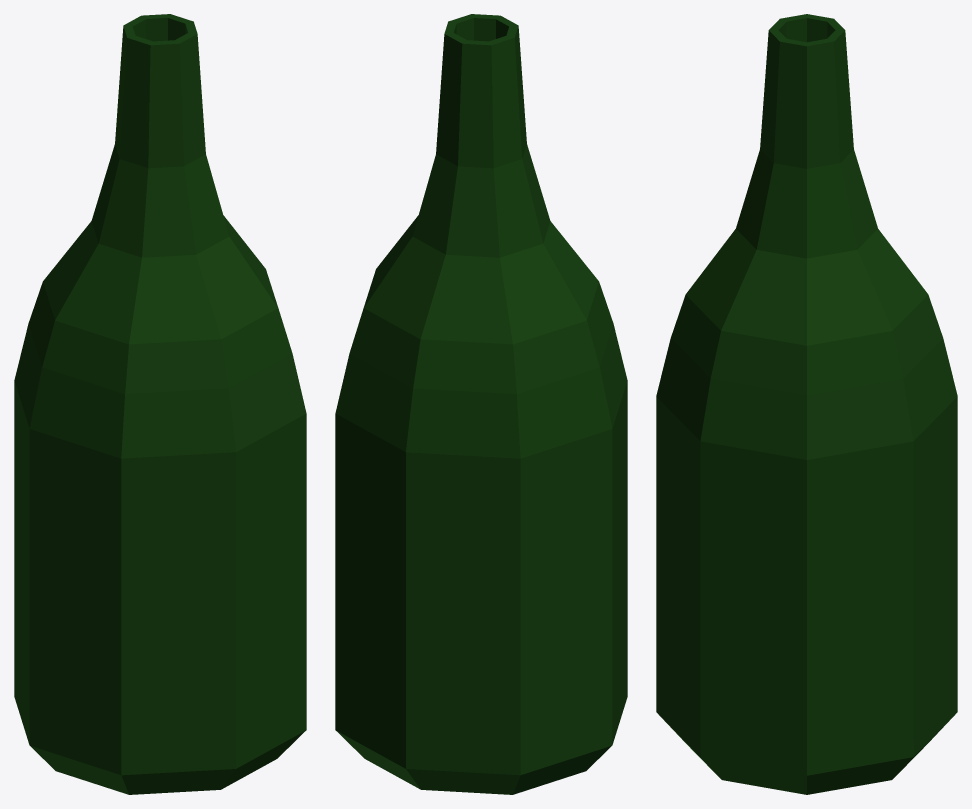
File: bottle.fbx
3 renders of one model, left to right at view 1: azimuth 30°, elevation 25°; view 2: azimuth 150°, elevation 25°; view 3: azimuth 270°, elevation 25°, orthographic.
Visible parts, largest first — view 1: butelka; view 2: butelka; view 3: butelka.
Part boxes in pixels (x1=…): butelka: x1=14, y1=14, x2=306, y2=794; butelka: x1=335, y1=14, x2=627, y2=794; butelka: x1=656, y1=14, x2=957, y2=794.
Bounding box in the file's own units: 11.38 × 29.74 × 11.38.
